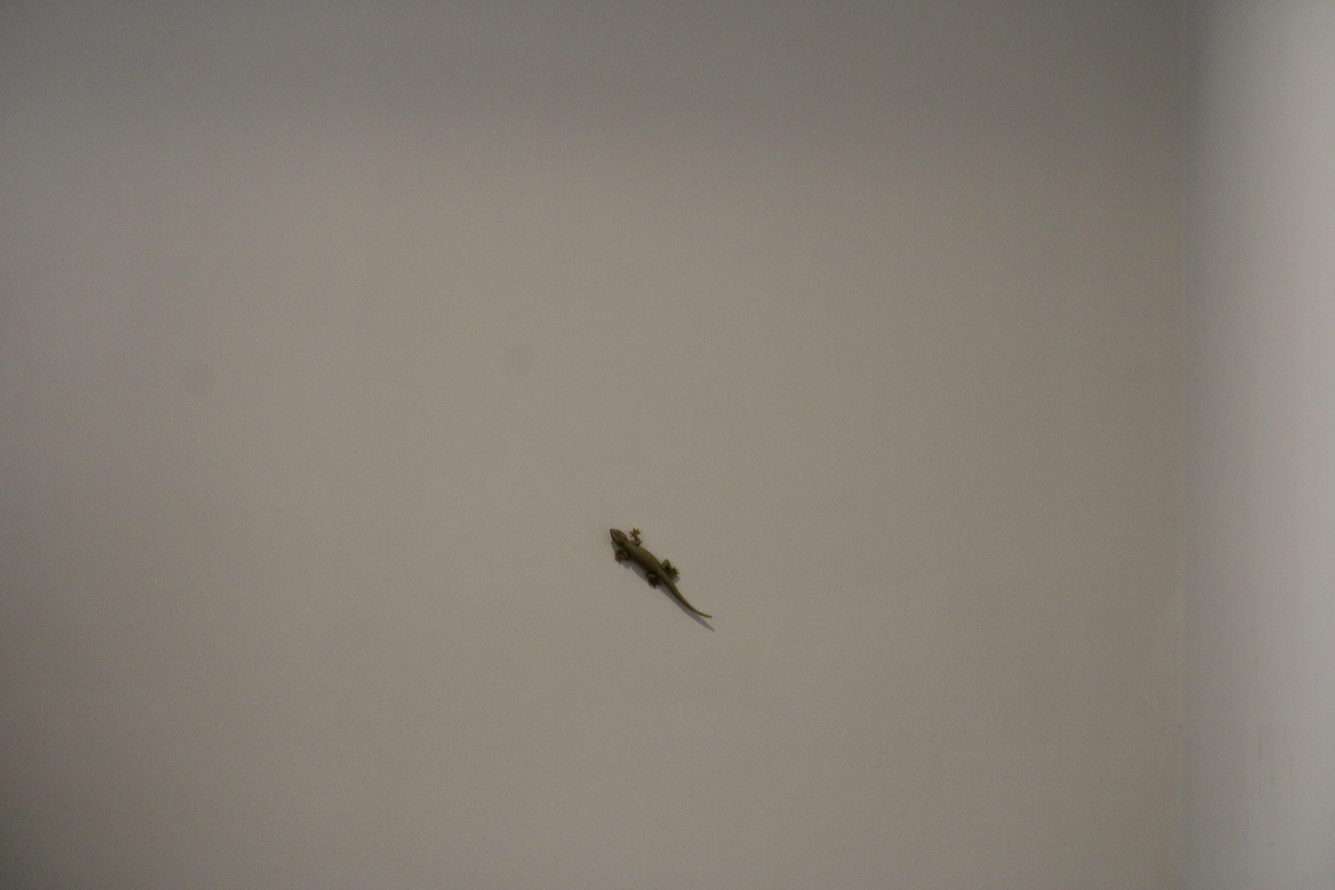lizard: (590, 510, 712, 625)
